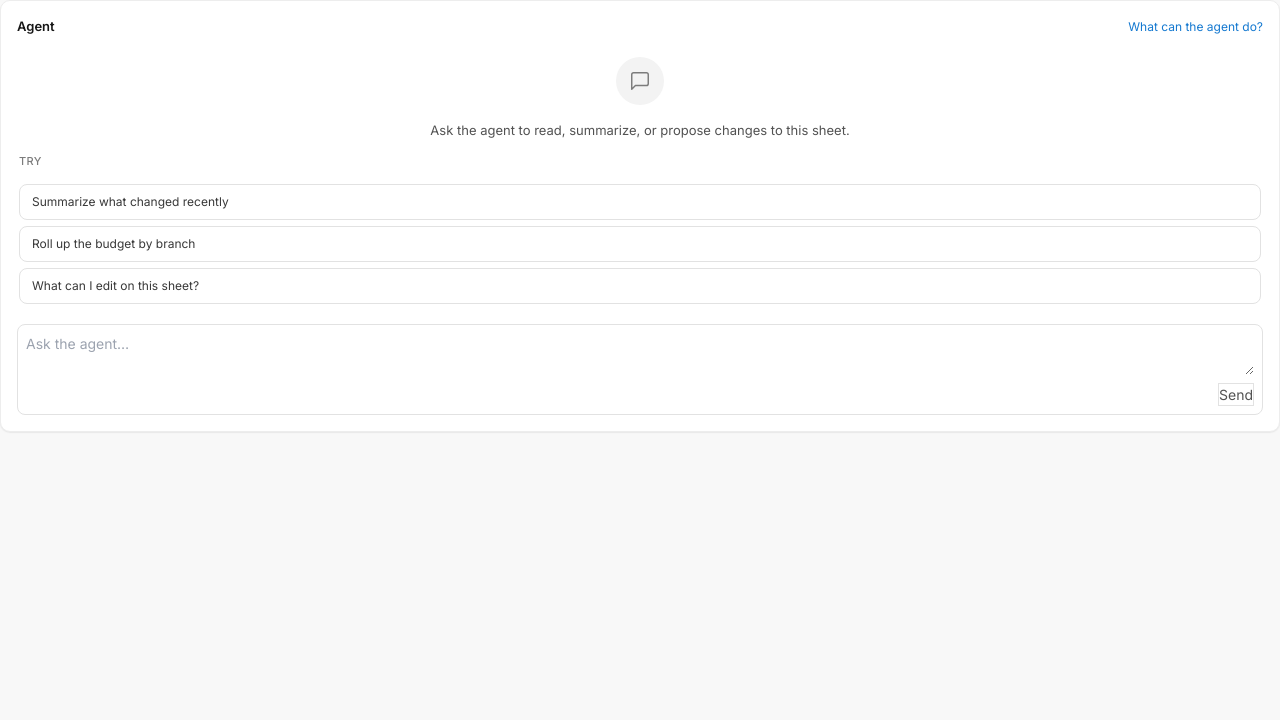
Test: AgentSidebar (thin shell) › tool list excludes internalReset (WEB_UI-070)
Click the button with test id "agent-tools-toggle" at [1196, 27], box [1128, 18, 1263, 36]
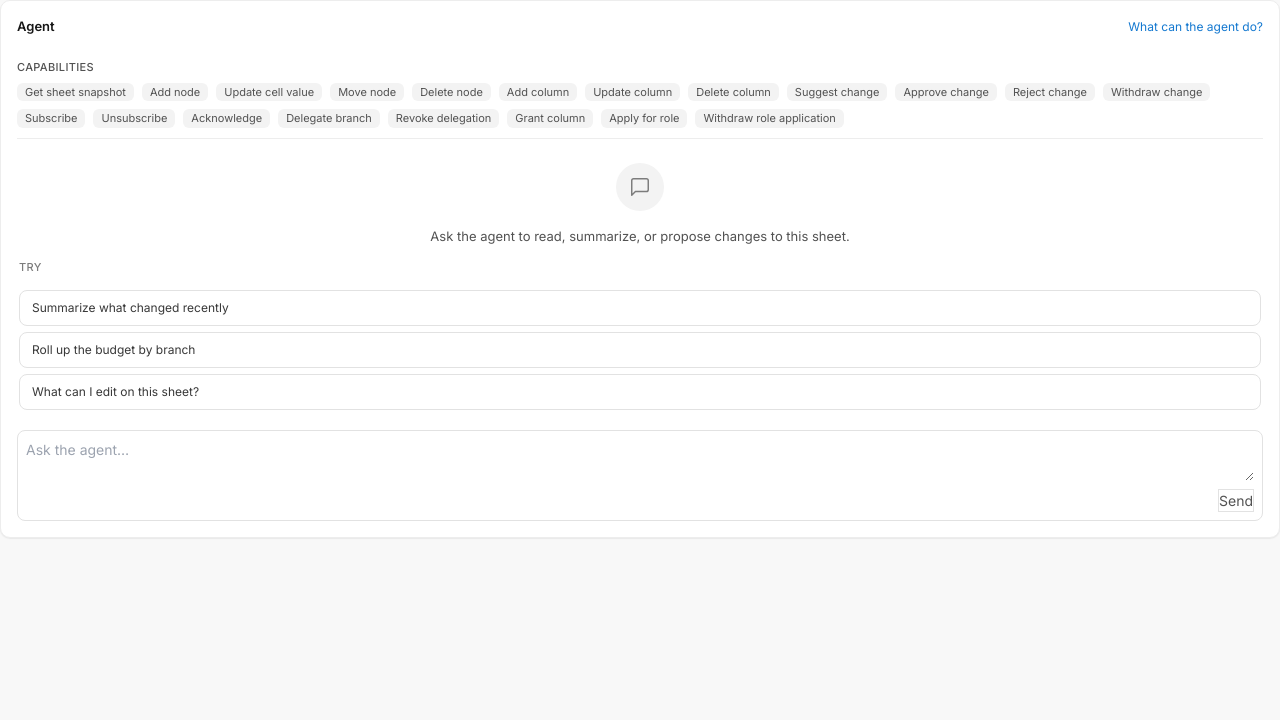
Expected: the list item with test id "tool-updateCell" is shown, [216, 83, 322, 101]
